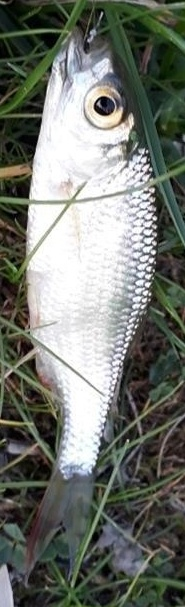Scardinius erythrophthalmus: (20, 20, 165, 587)
